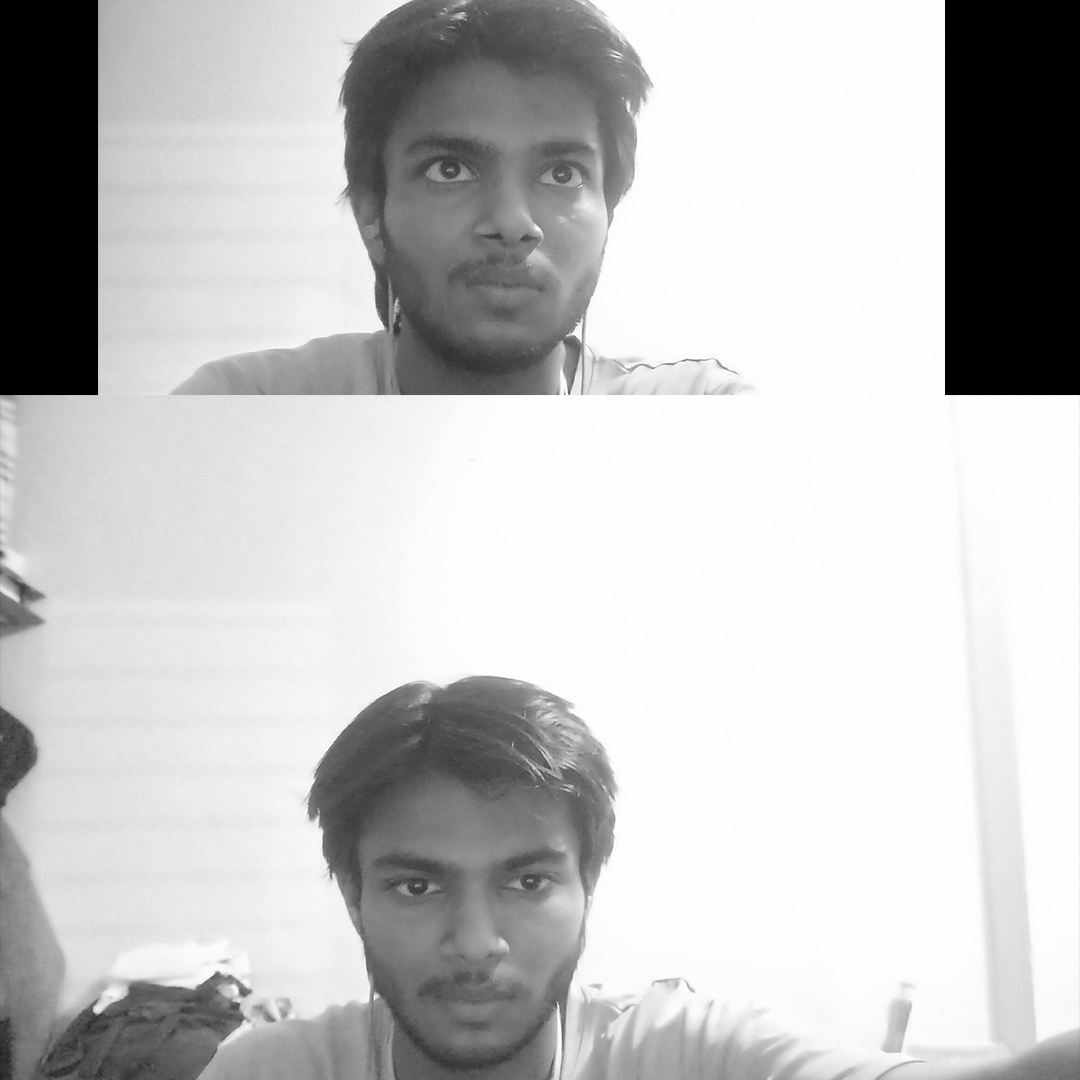Focused: (217, 583, 668, 1080), (248, 5, 716, 386)
